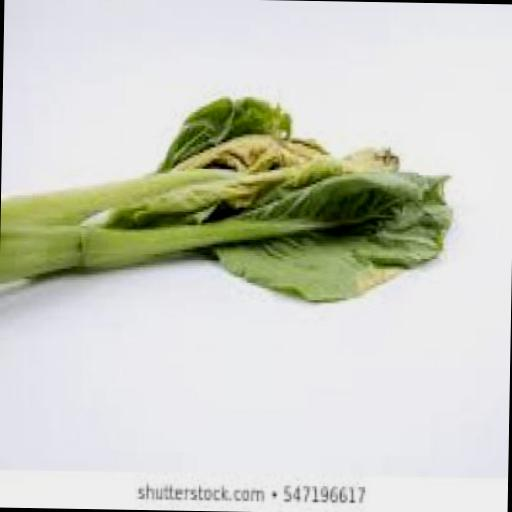biodegradable: (0, 92, 452, 302), (210, 169, 453, 300), (158, 92, 293, 174)
